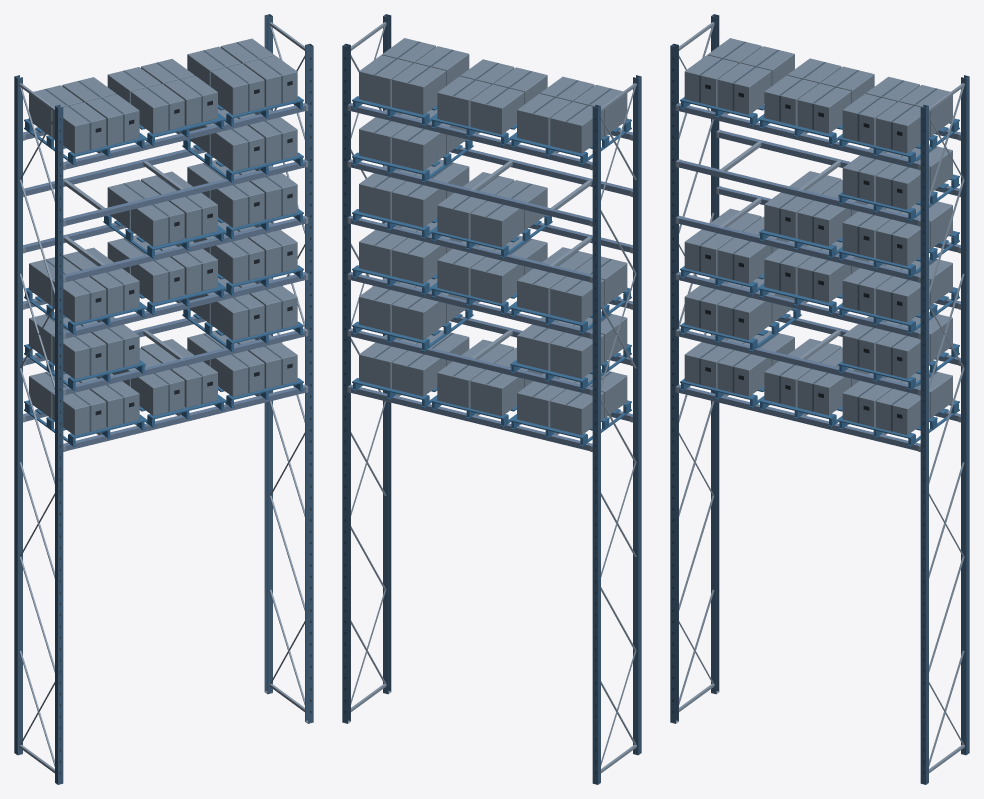
File: SM_GHS_V2Rack_B_Pass_W36176_Occ70.fbx
3 views of the same model, side by side, from view 1: azimuth 30°, elevation 25°; view 2: azimuth 150°, elevation 25°; view 3: azimuth 330°, elevation 25° (orthographic).
Visible parts, largest first — view 1: SM_GHS_V2Rack_B_Pass_W36176_Occ70; view 2: SM_GHS_V2Rack_B_Pass_W36176_Occ70; view 3: SM_GHS_V2Rack_B_Pass_W36176_Occ70.
Part boxes in pixels (bbox=[...]): SM_GHS_V2Rack_B_Pass_W36176_Occ70: bbox=[14, 14, 313, 784]; SM_GHS_V2Rack_B_Pass_W36176_Occ70: bbox=[342, 14, 641, 784]; SM_GHS_V2Rack_B_Pass_W36176_Occ70: bbox=[670, 14, 969, 784].
Bounding box in the file's own units: 362 × 122 × 915.
